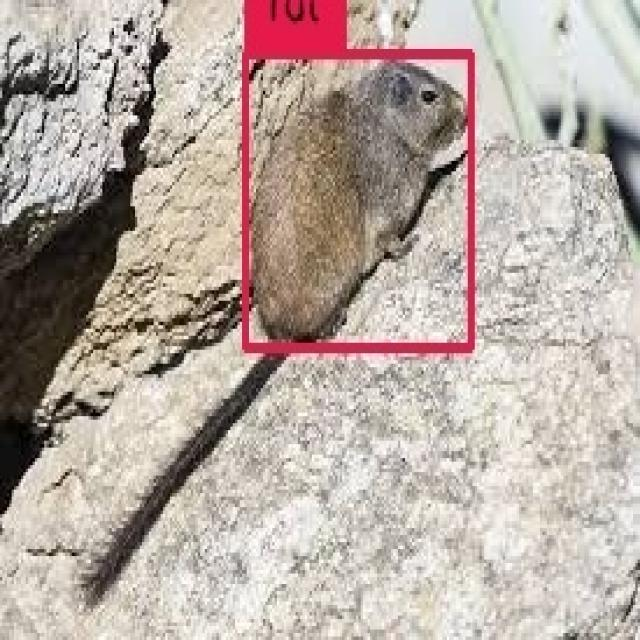rat: (246, 54, 471, 348)
